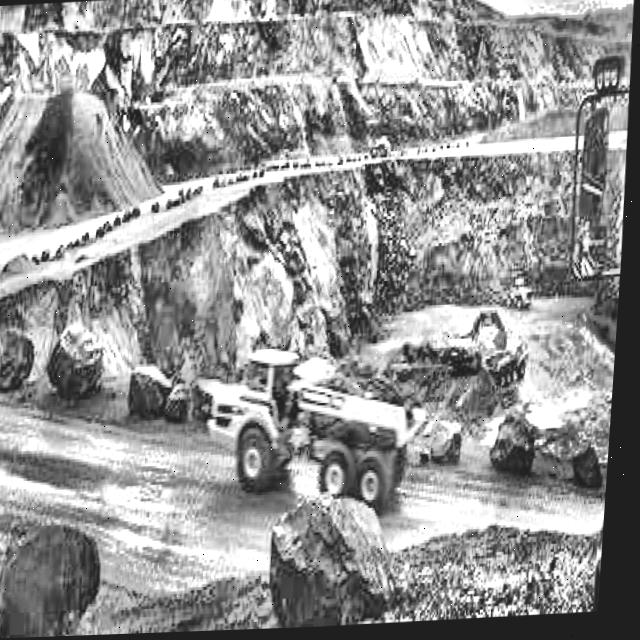dump_truck: (189, 327, 436, 538)
